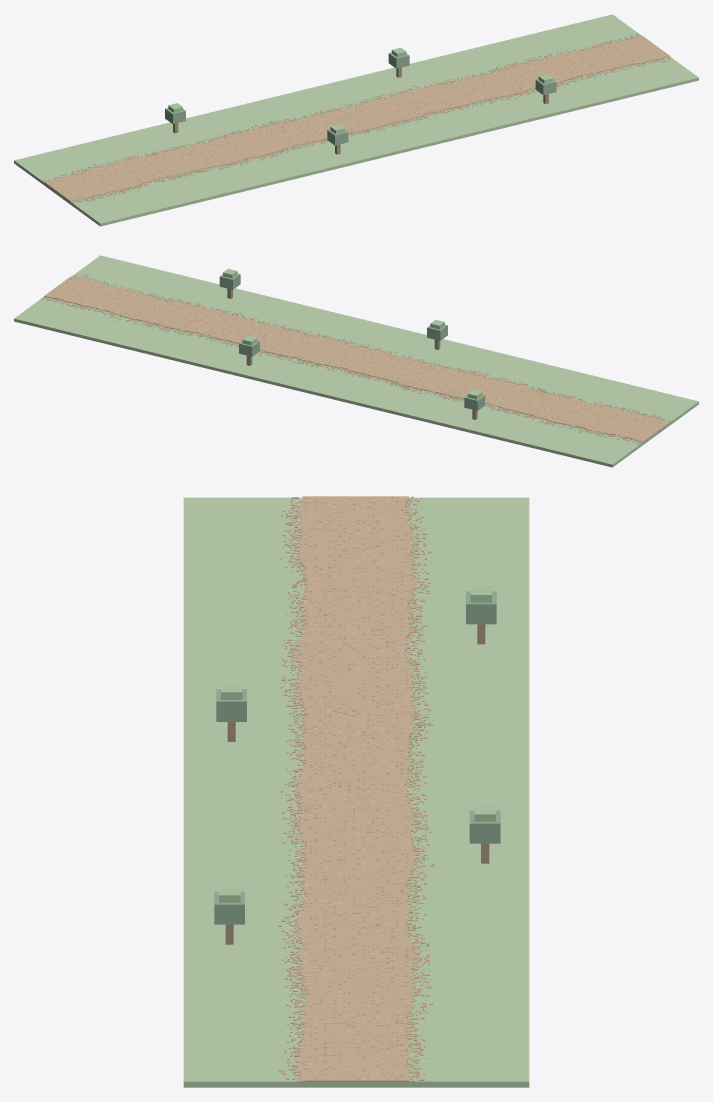
The model's file is dirt.glb.
3 renders of one model, top to bottom at view 1: azimuth 30°, elevation 25°; view 2: azimuth 150°, elevation 25°; view 3: azimuth 270°, elevation 25°, orthographic. The views are drawn at different scales.
Visible parts, largest first — view 1: Terrain, Path_base, Surface_detail, Path_edge_particles, Trees; view 2: Terrain, Path_base, Surface_detail, Path_edge_particles, Trees; view 3: Terrain, Path_base, Surface_detail, Path_edge_particles, Trees.
Boxes of the visible parts, <box> form: Terrain: <box>14,14,698,226</box>; Path_base: <box>44,35,669,201</box>; Surface_detail: <box>46,37,668,200</box>; Path_edge_particles: <box>41,33,670,203</box>; Trees: <box>165,47,556,154</box>; Terrain: <box>14,255,698,467</box>; Path_base: <box>44,276,668,442</box>; Surface_detail: <box>49,276,668,440</box>; Path_edge_particles: <box>41,274,671,444</box>; Trees: <box>219,268,485,419</box>; Terrain: <box>183,497,529,1087</box>; Path_base: <box>298,496,415,1082</box>; Surface_detail: <box>299,496,417,1080</box>; Path_edge_particles: <box>278,496,434,1081</box>; Trees: <box>214,586,500,944</box>.
Size of the model in its own units: 72.02 by 3.39 by 18.
